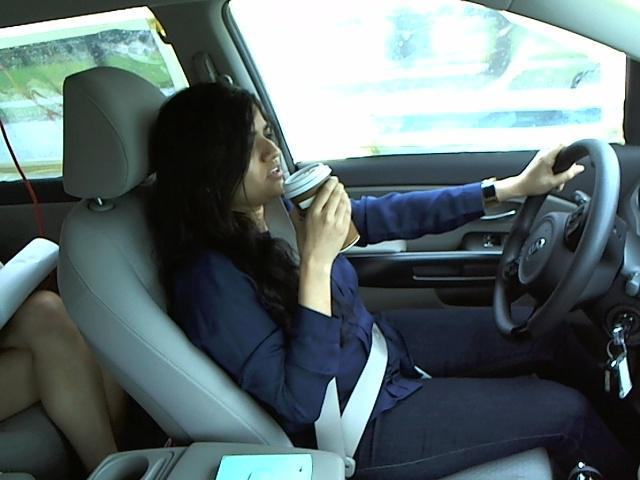c4 - Drinking: (128, 68, 625, 434)
